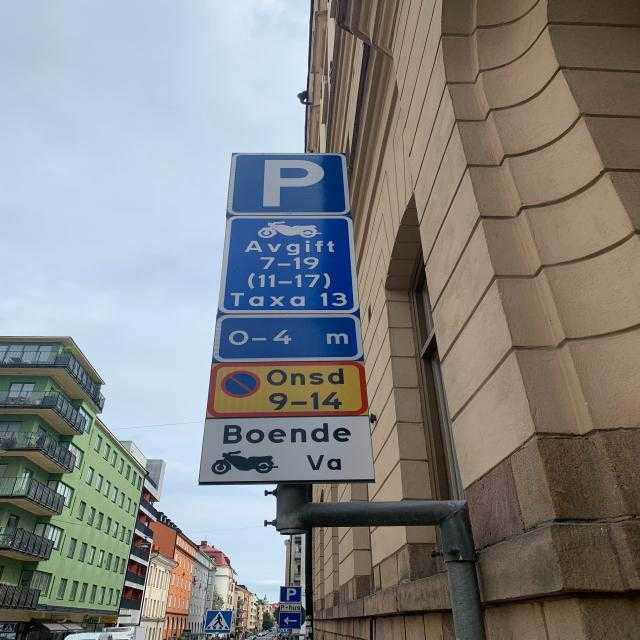psign: (226, 153, 349, 215), (279, 586, 302, 604)
